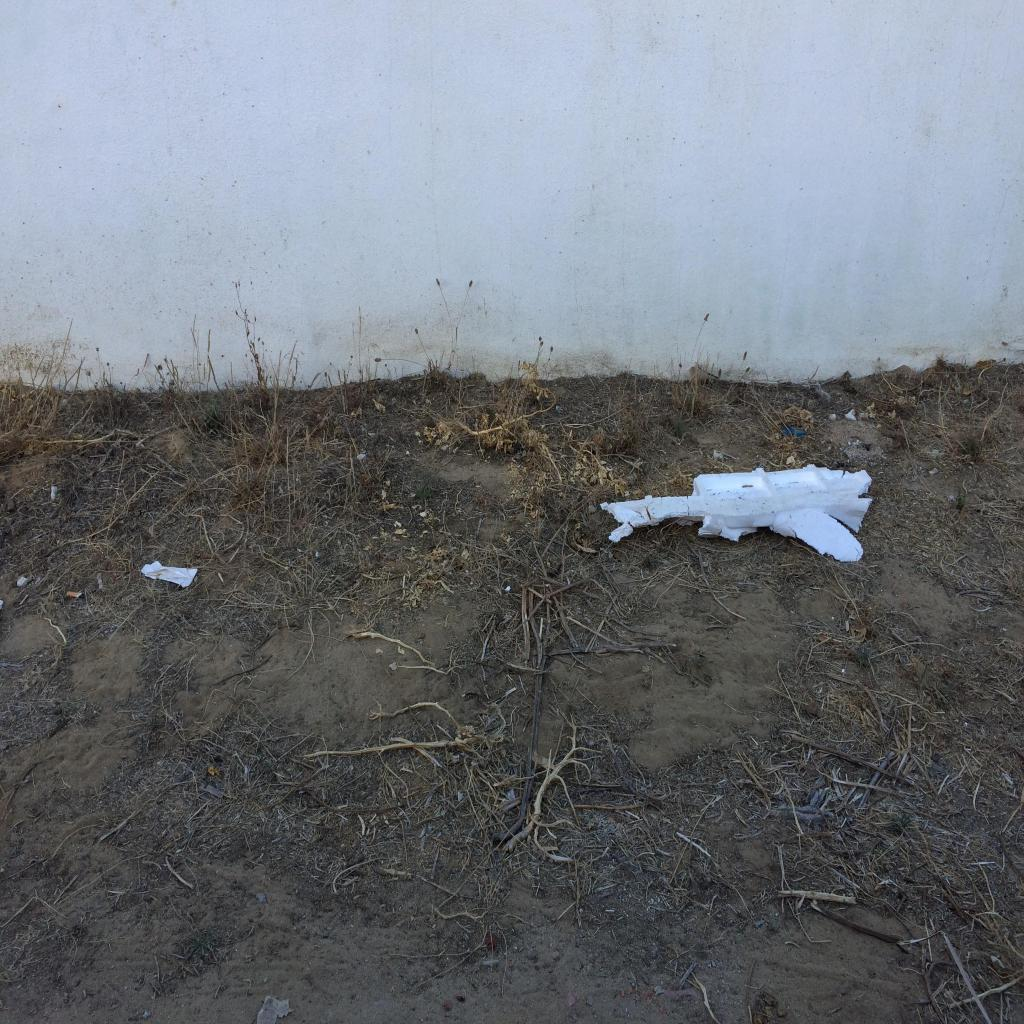Cigarette: (66, 590, 82, 600)
Styrofoam piece: (601, 465, 873, 561)
Unlabeled litter: (140, 560, 198, 588)
